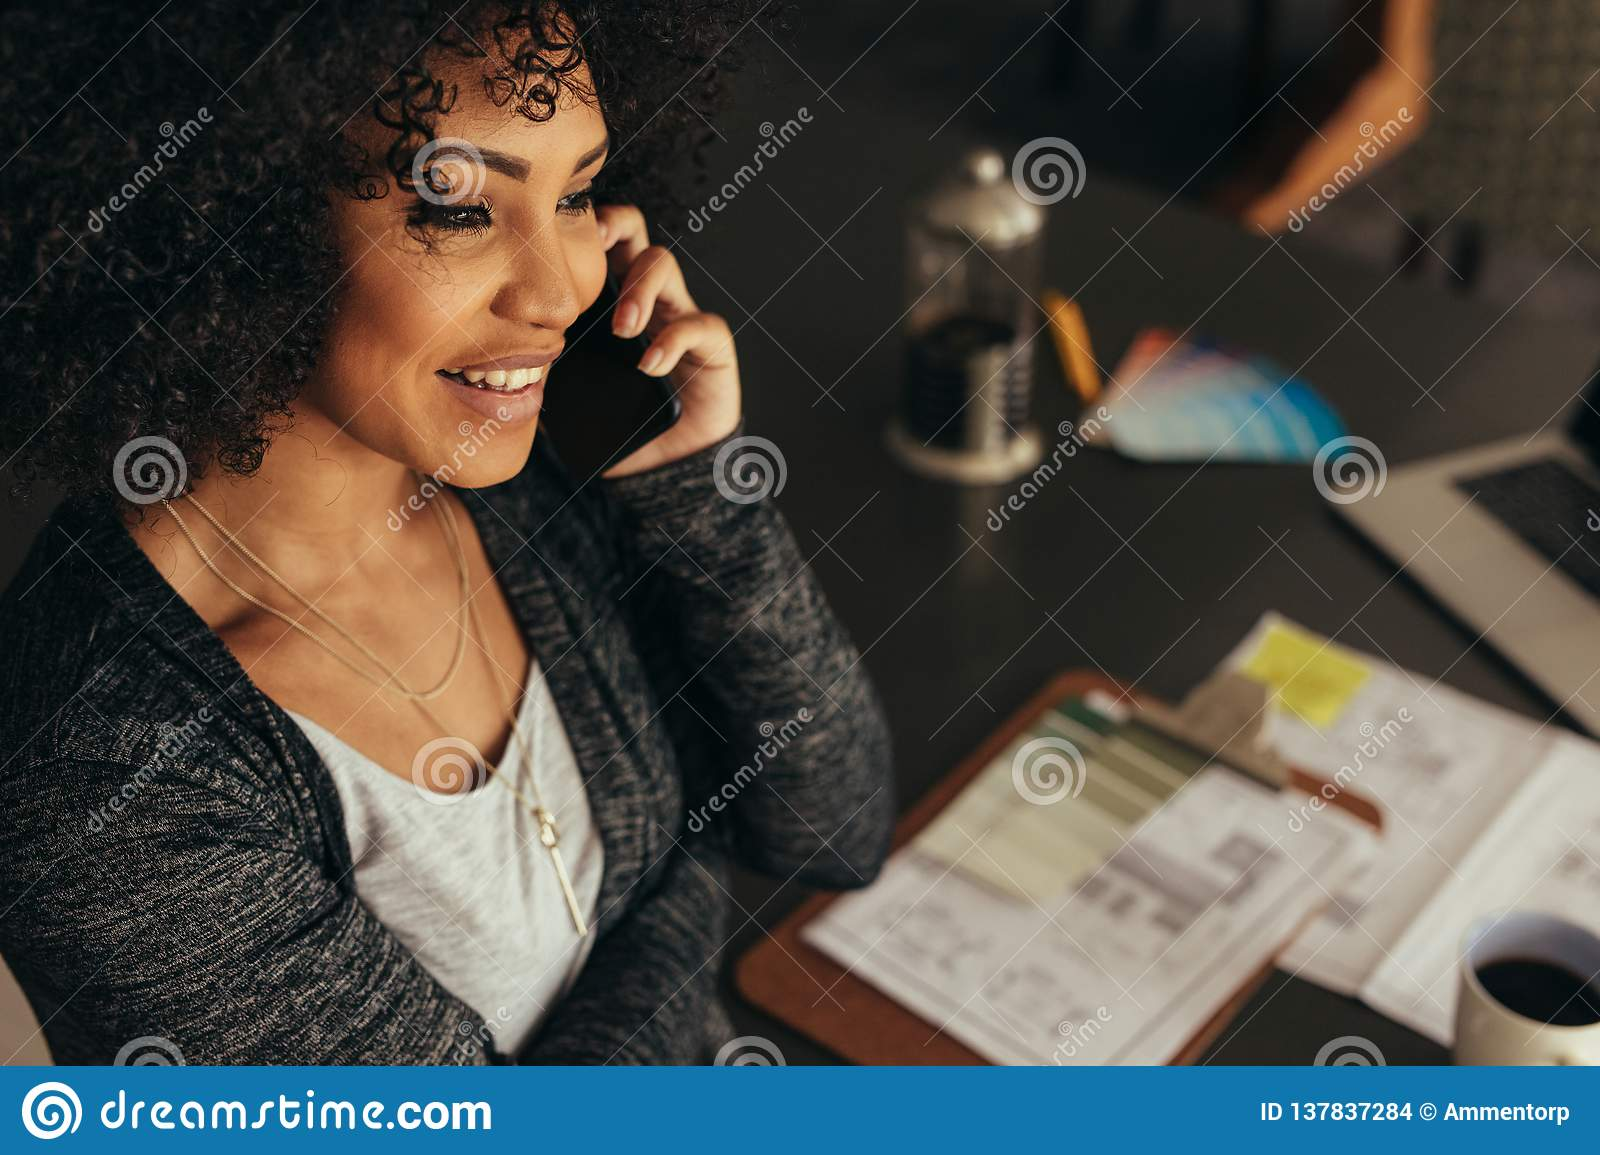talk: (381, 115, 747, 528)
